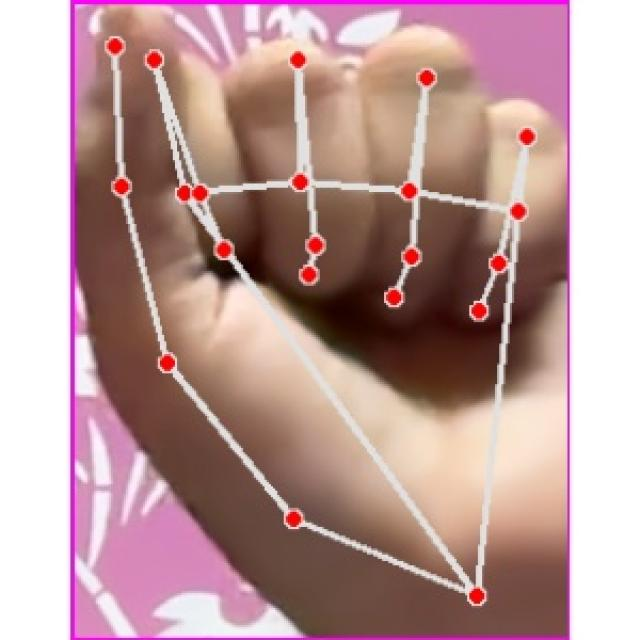A: (75, 5, 565, 632)
